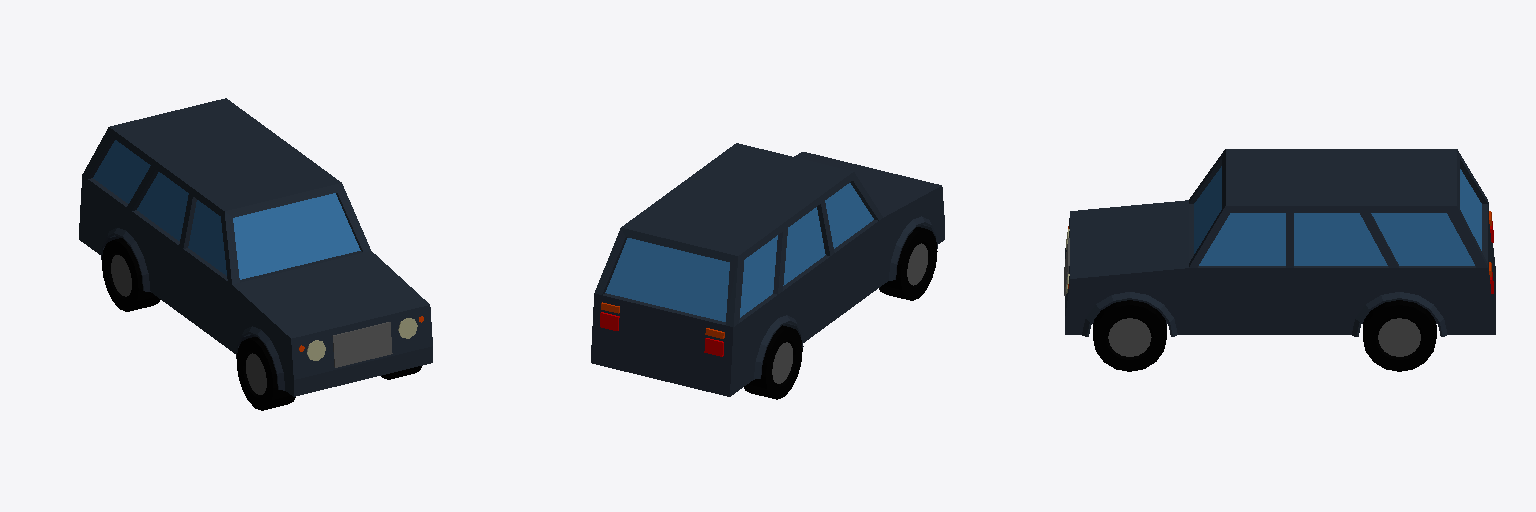
The model's file is car-station-silver.obj.
3 views of the same model, side by side, from view 1: azimuth 30°, elevation 25°; view 2: azimuth 150°, elevation 25°; view 3: azimuth 270°, elevation 25° (orthographic).
Parts seen in each view (by area): view 1: car-station-silver_Cube.630; view 2: car-station-silver_Cube.630; view 3: car-station-silver_Cube.630.
Boxes of the visible parts, x1,y1,x2,y2 form: car-station-silver_Cube.630: [79, 98, 432, 410]; car-station-silver_Cube.630: [591, 143, 944, 399]; car-station-silver_Cube.630: [1064, 149, 1495, 371].
Size of the model in its own units: 0.854 by 0.846 by 2.1.